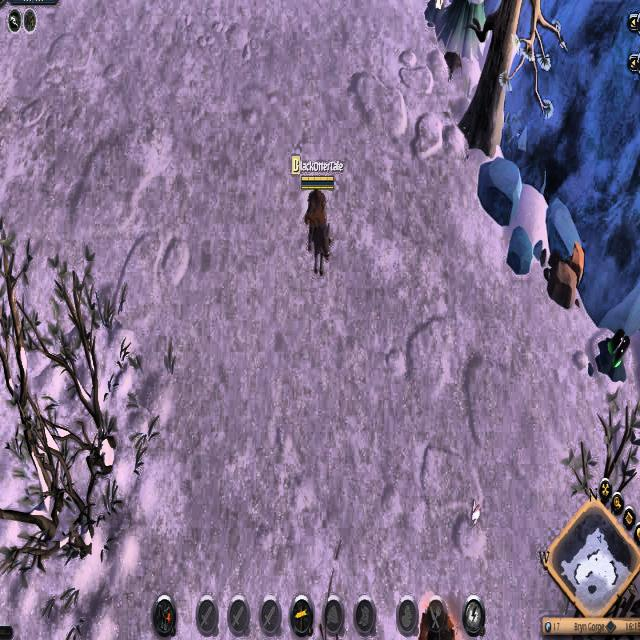copperore: (425, 0, 449, 27)
limestone: (545, 232, 586, 312)
tinore: (594, 323, 634, 387)
